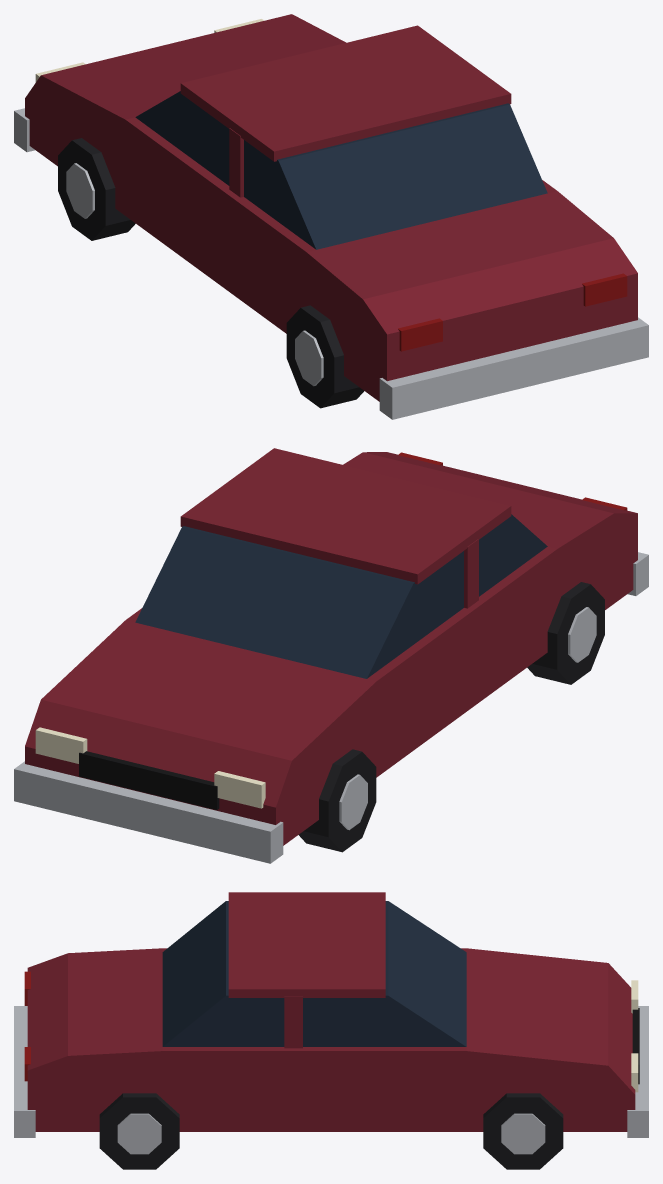
File: CarSedanMaroon.obj
The picture shows the model from 3 angles, top to bottom: view 1: azimuth 30°, elevation 25°; view 2: azimuth 150°, elevation 25°; view 3: azimuth 270°, elevation 25°; orthographic projection. The views are drawn at different scales.
Parts seen in each view (by area): view 1: CarSedanMaroon; view 2: CarSedanMaroon; view 3: CarSedanMaroon.
Part boxes in pixels (bbox=[...]): CarSedanMaroon: bbox=[14, 14, 648, 419]; CarSedanMaroon: bbox=[14, 448, 648, 863]; CarSedanMaroon: bbox=[14, 892, 648, 1169].
Bounding box in the file's own units: 1.97 × 1.42 × 4.7.
1 material, 1 textured.
